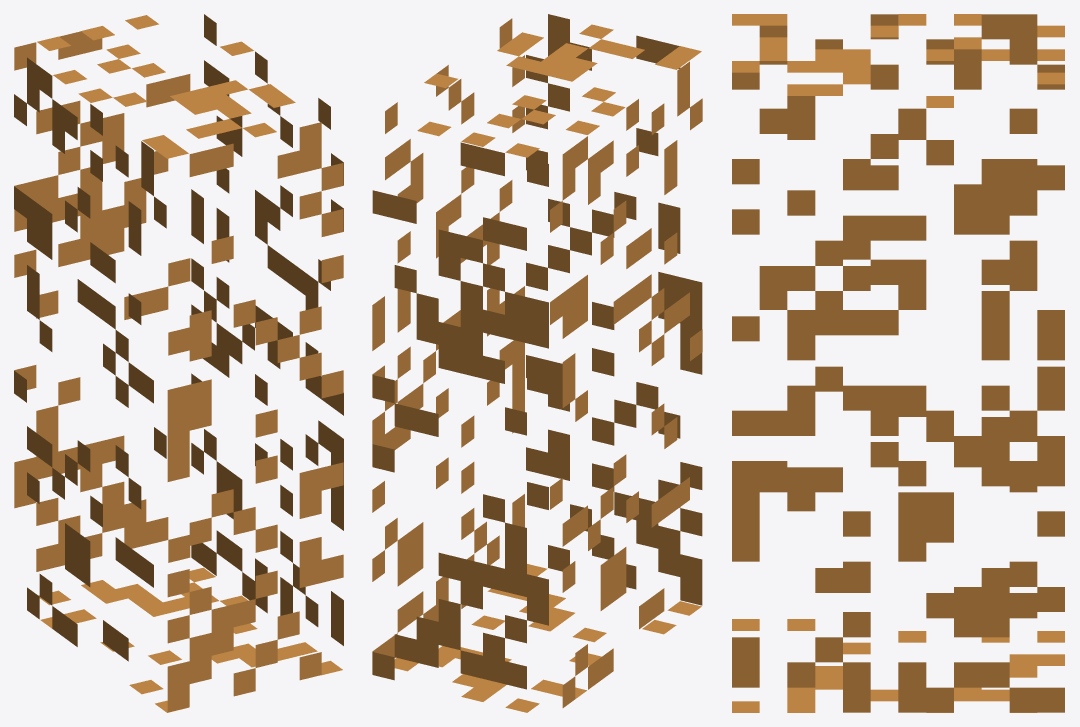
Rendered from crate_3.dae.
3 renders of one model, left to right at view 1: azimuth 30°, elevation 25°; view 2: azimuth 150°, elevation 25°; view 3: azimuth 270°, elevation 25°, orthographic. The views are drawn at different scales.
Visible parts, largest first — view 1: node3; view 2: node3; view 3: node3.
Boxes of the visible parts, x1,y1,x2,y2 form: node3: (14, 14, 343, 712); node3: (372, 14, 702, 712); node3: (732, 14, 1064, 712).
Size of the model in its own units: 2.01 by 3.01 by 6.01.
